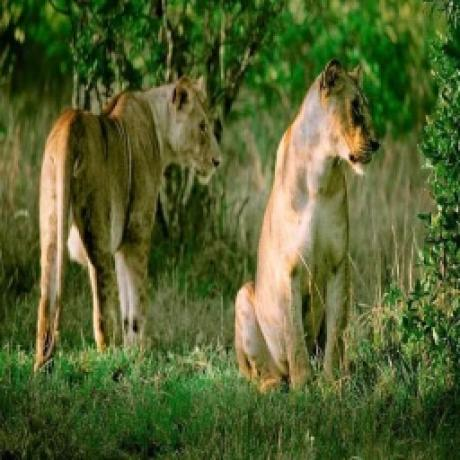Lion: (34, 70, 224, 348), (232, 58, 384, 384)
